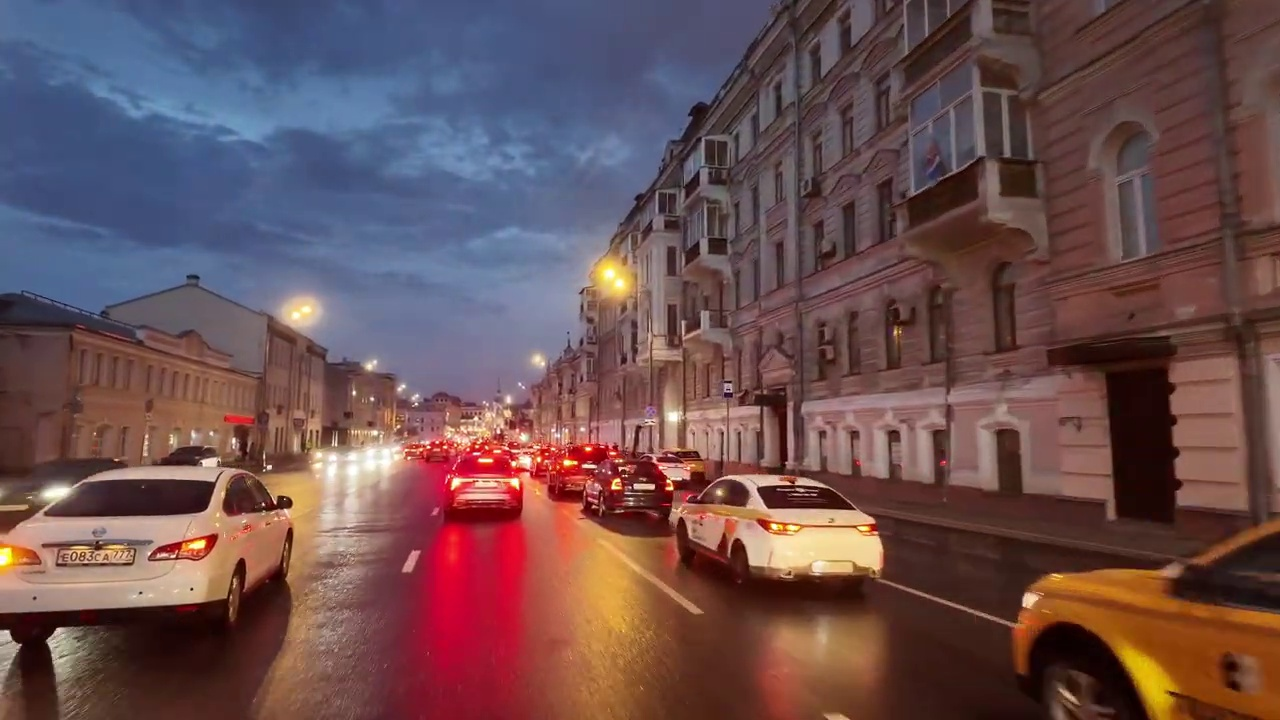acesa: (593, 258, 635, 301), (282, 297, 319, 327), (528, 349, 548, 370), (360, 356, 380, 376)
